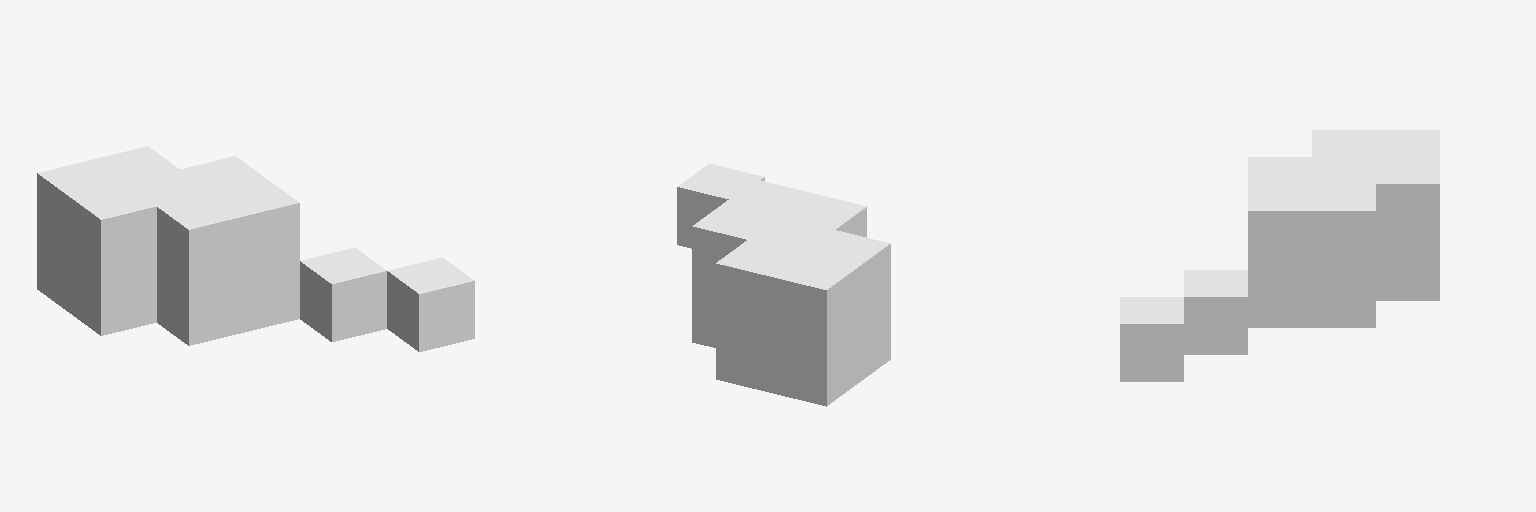
Rendered from Drumstick.obj.
The picture shows the model from 3 angles: view 1: azimuth 30°, elevation 25°; view 2: azimuth 150°, elevation 25°; view 3: azimuth 270°, elevation 25°; orthographic projection.
Visible parts, largest first — view 1: Drumstick; view 2: Drumstick; view 3: Drumstick.
Part boxes in pixels (bbox=[...]): Drumstick: bbox=[37, 146, 474, 351]; Drumstick: bbox=[677, 164, 890, 406]; Drumstick: bbox=[1120, 130, 1439, 381].
Size of the model in its own units: 5 by 2 by 5.